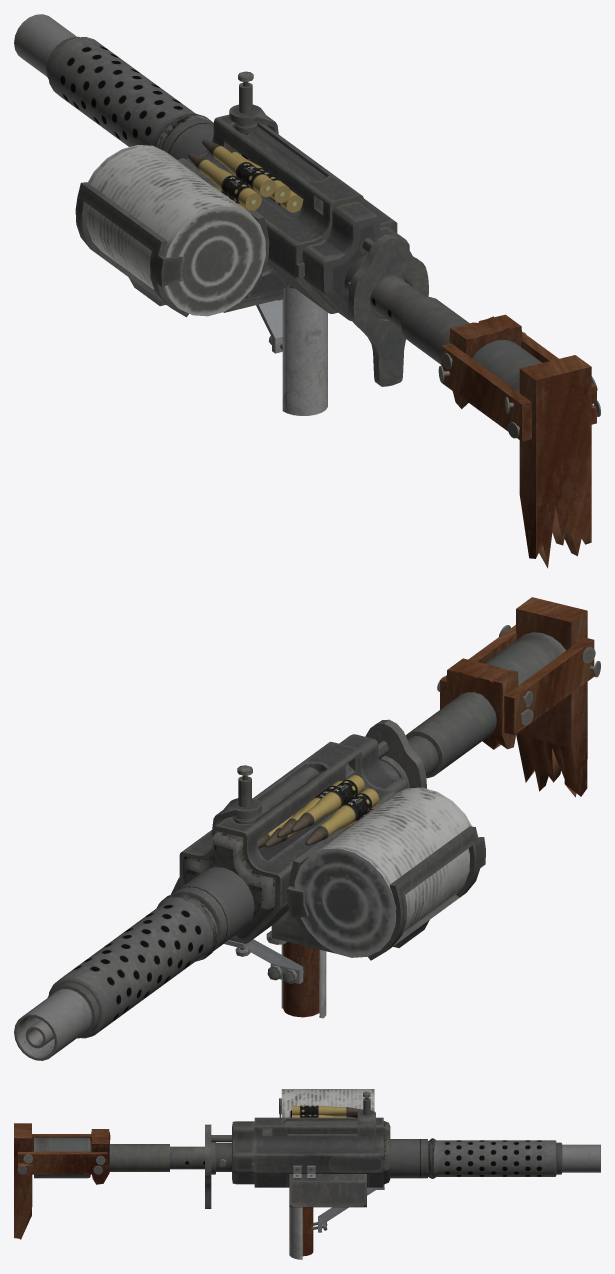
File: 308_machine_gun (2).glb
The picture shows the model from 3 angles, top to bottom: view 1: azimuth 30°, elevation 25°; view 2: azimuth 150°, elevation 25°; view 3: azimuth 270°, elevation 25°; orthographic projection. The views are drawn at different scales.
Parts seen in each view (by area): view 1: Auto308objcleanergles; view 2: Auto308objcleanergles; view 3: Auto308objcleanergles.
Boxes of the visible parts, left/top/right/bottom form: Auto308objcleanergles: left=14, top=14, right=600, bottom=568; Auto308objcleanergles: left=14, top=597, right=600, bottom=1060; Auto308objcleanergles: left=14, top=1089, right=600, bottom=1259.
Size of the model in its own units: 36.93 by 41.67 by 138.
1 material, 1 textured.
